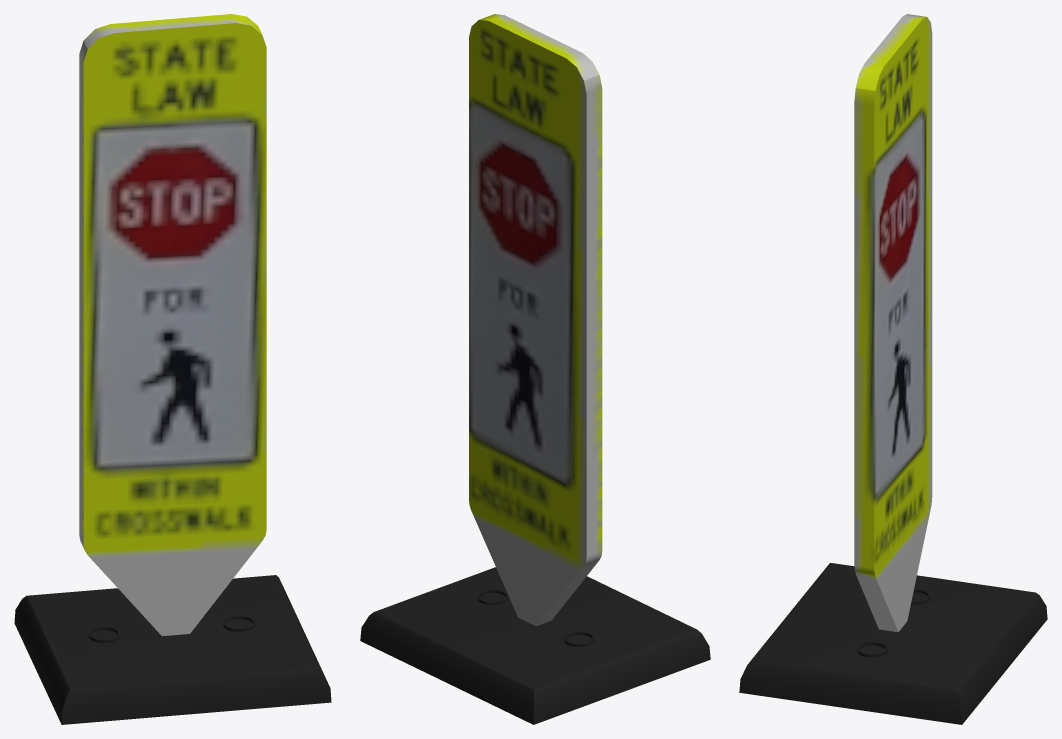
The model's file is tj_crossing_sign.fbx.
The picture shows the model from 3 angles, left to right: view 1: azimuth 30°, elevation 25°; view 2: azimuth 150°, elevation 25°; view 3: azimuth 270°, elevation 25°; orthographic projection. The views are drawn at different scales.
Visible parts, largest first — view 1: tj_crossing_sign_LOD0; view 2: tj_crossing_sign_LOD0; view 3: tj_crossing_sign_LOD0.
Part boxes in pixels (bbox=[...]): tj_crossing_sign_LOD0: bbox=[14, 14, 331, 724]; tj_crossing_sign_LOD0: bbox=[360, 14, 710, 724]; tj_crossing_sign_LOD0: bbox=[739, 14, 1047, 724].
Size of what is drawn, in the model's own units: 0.5271 by 1.1 by 0.4982.
Materials: 1 (1 with a texture image).
